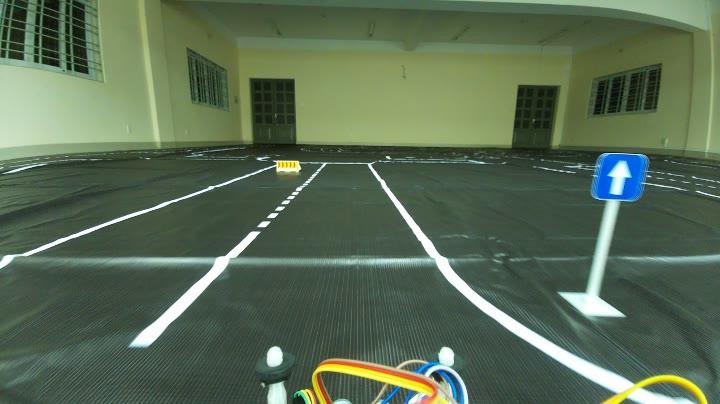onewayroad: (594, 147, 654, 209)
roadblock: (272, 158, 302, 173)
